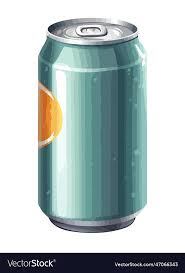can: (38, 17, 148, 233)
